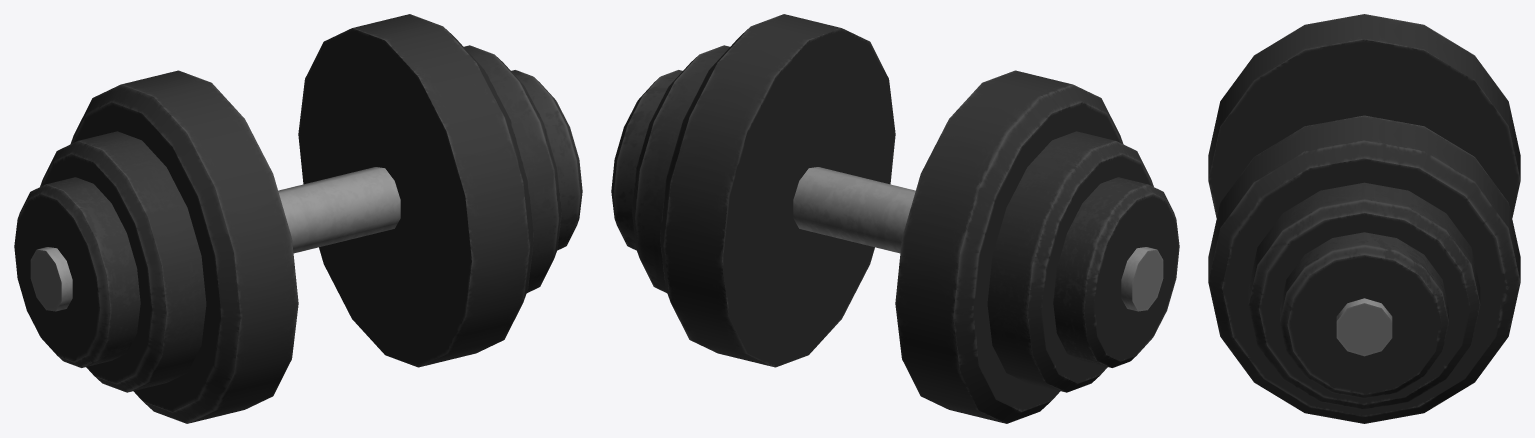
File: Dumbbell.FBX
The picture shows the model from 3 angles, left to right: view 1: azimuth 30°, elevation 25°; view 2: azimuth 150°, elevation 25°; view 3: azimuth 270°, elevation 25°; orthographic projection. The views are drawn at different scales.
Visible parts, largest first — view 1: Dumbbell; view 2: Dumbbell; view 3: Dumbbell.
Part boxes in pixels (x1,y1,x2,y2): Dumbbell: (14, 14, 582, 423); Dumbbell: (611, 14, 1179, 423); Dumbbell: (1208, 14, 1520, 423).
Bounding box in the file's own units: 96.05 × 57.23 × 57.23.
